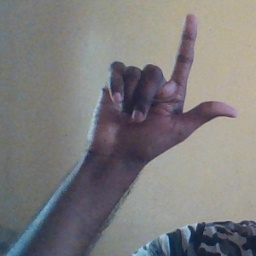L: (90, 13, 240, 160)
